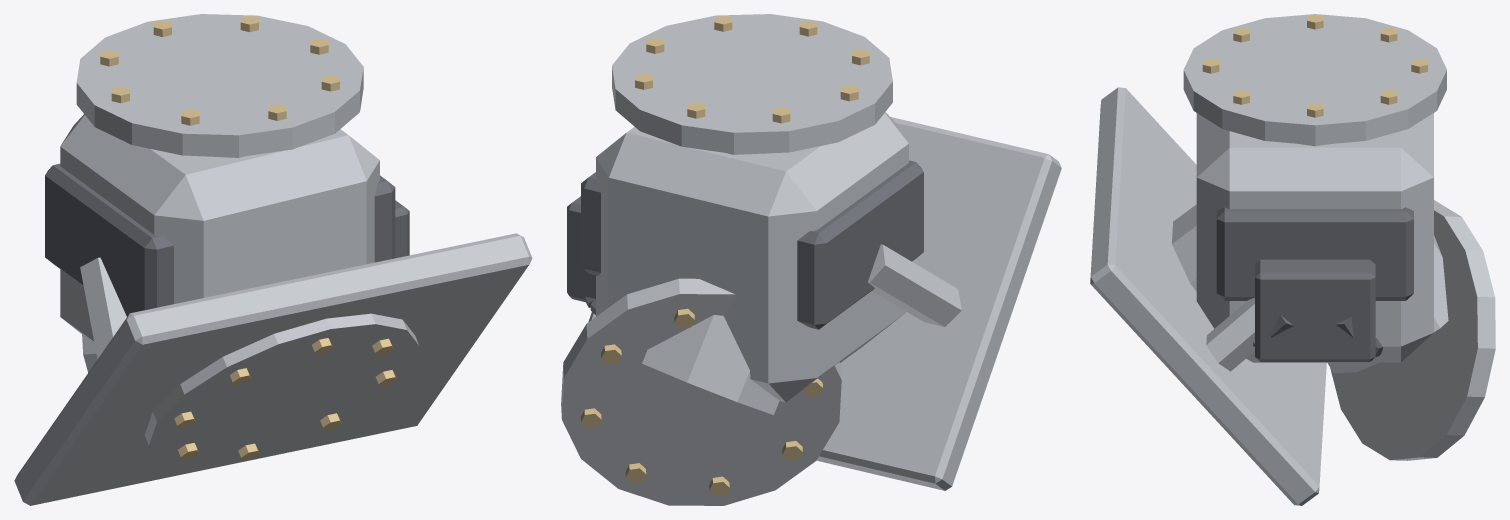
The model's file is bastion.carrier.glb.
3 views of the same model, side by side, from view 1: azimuth 30°, elevation 25°; view 2: azimuth 150°, elevation 25°; view 3: azimuth 270°, elevation 25° (orthographic). The views are drawn at different scales.
Bounding box in the file's own units: 1.5 × 1.54 × 1.48.
